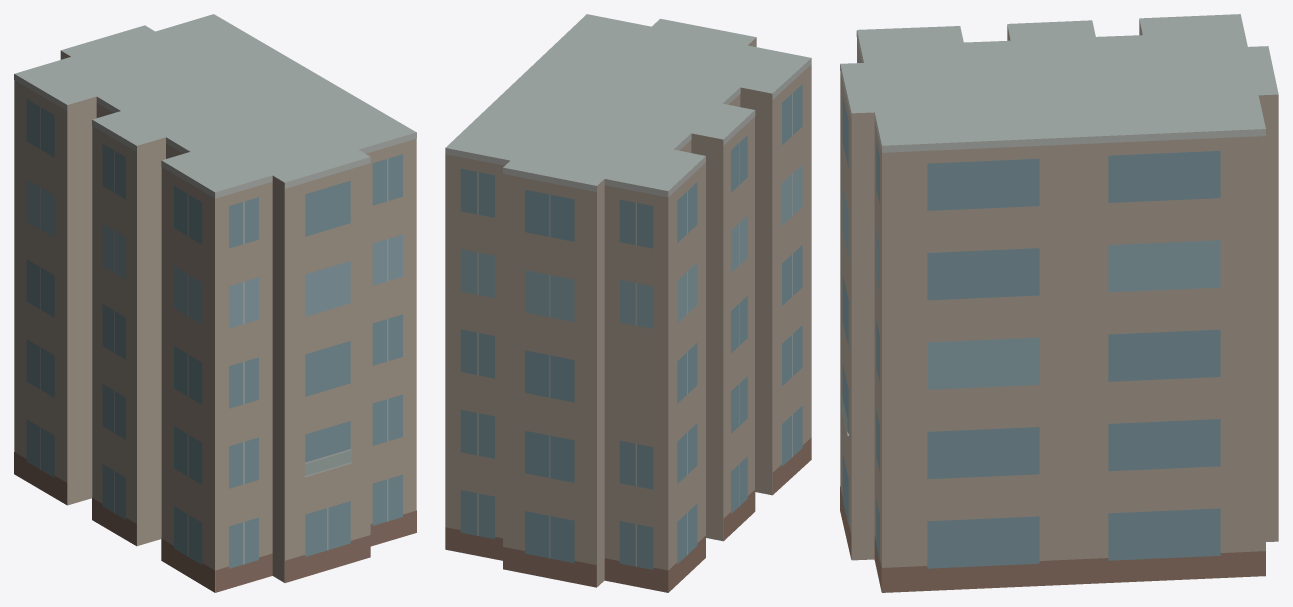
Rendered from survey-upis-32667115.glb.
3 views of the same model, side by side, from view 1: azimuth 30°, elevation 25°; view 2: azimuth 150°, elevation 25°; view 3: azimuth 270°, elevation 25° (orthographic). The views are drawn at different scales.
Visible parts, largest first — view 1: survey-upis-32667115.tmp; view 2: survey-upis-32667115.tmp; view 3: survey-upis-32667115.tmp.
Boxes of the visible parts, x1,y1,x2,y2 form: survey-upis-32667115.tmp: (14,14,416,592); survey-upis-32667115.tmp: (445,14,811,592); survey-upis-32667115.tmp: (840,14,1278,592).
Size of the model in its own units: 9.87 by 15.6 by 13.88.
